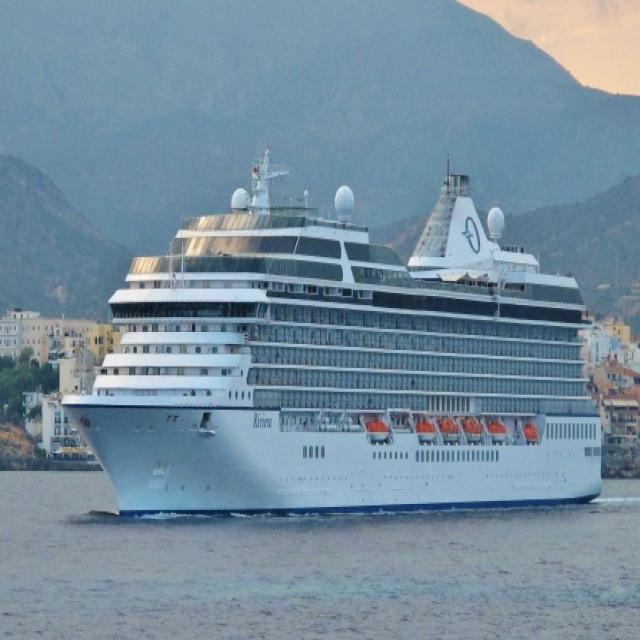cruises: (55, 139, 608, 528)
